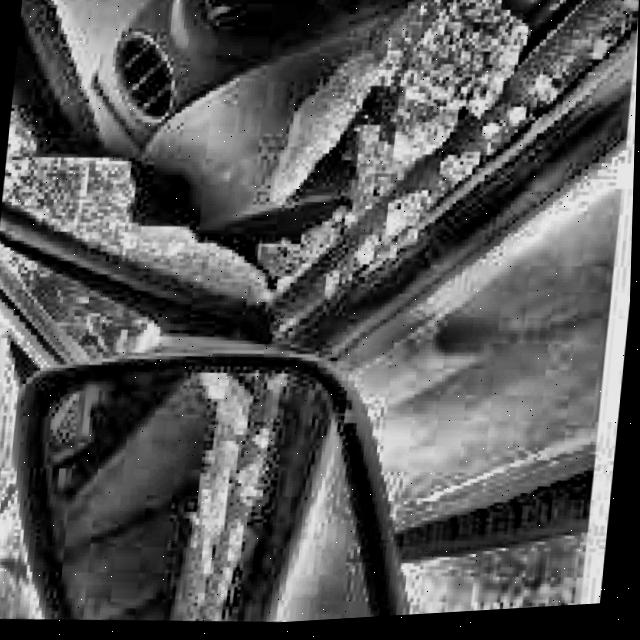glass_shatter: (0, 0, 510, 247)
